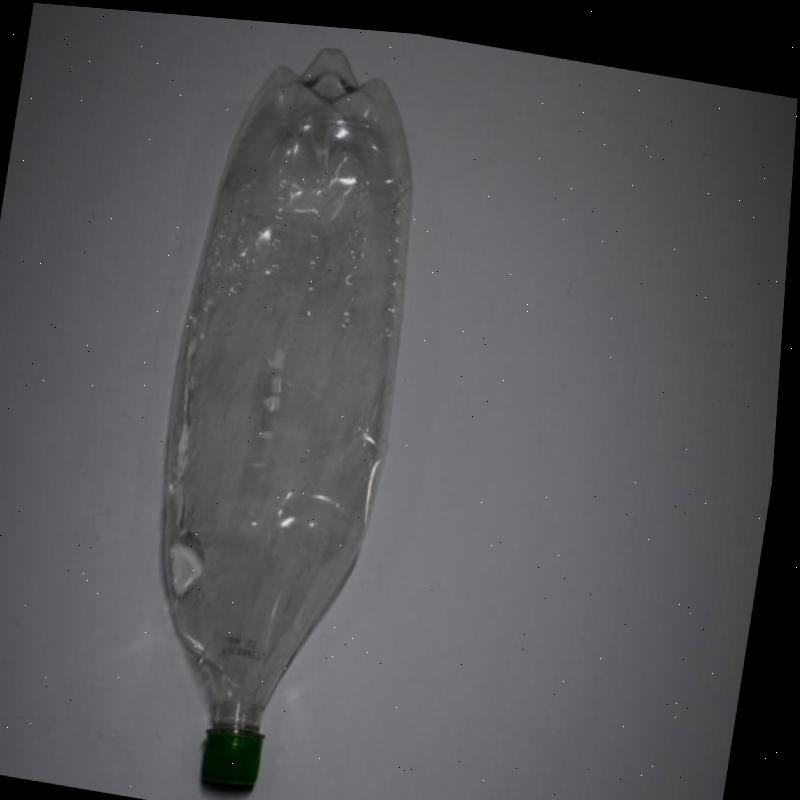botella: (126, 21, 447, 800)
